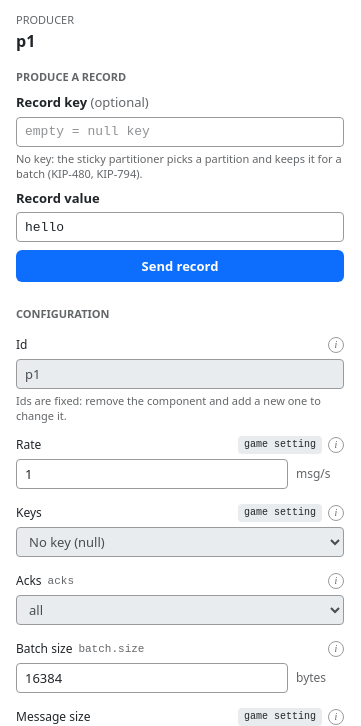
Test case: <PropertiesPanel> › Escape puts back the committed value
Replace the text in the field labelled "Rate" with "-3" at (152, 474), box [16, 459, 288, 489]
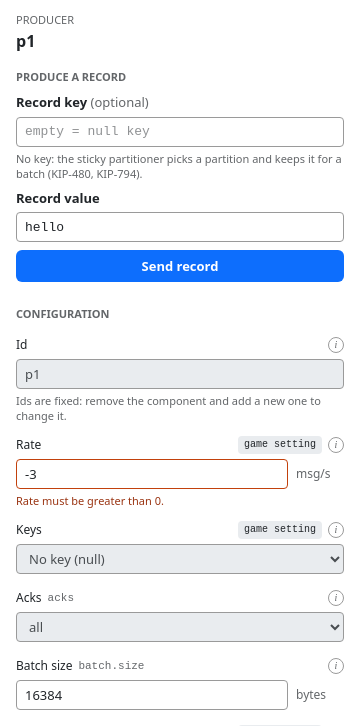
Result: the field labelled "Rate" is marked as invalid
Press Escape in the field labelled "Rate", box [16, 459, 288, 489]
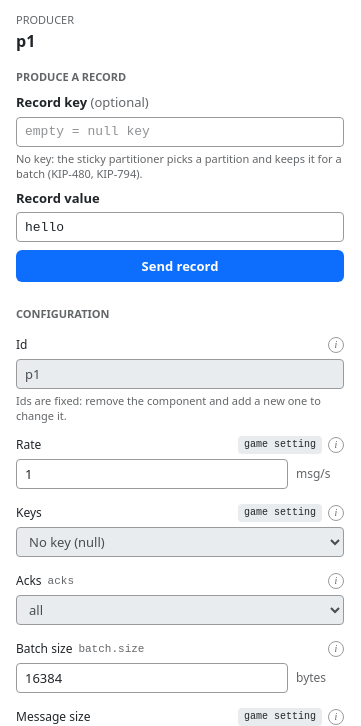
Result: the field labelled "Rate" holds "1" at [16, 459, 288, 489]
